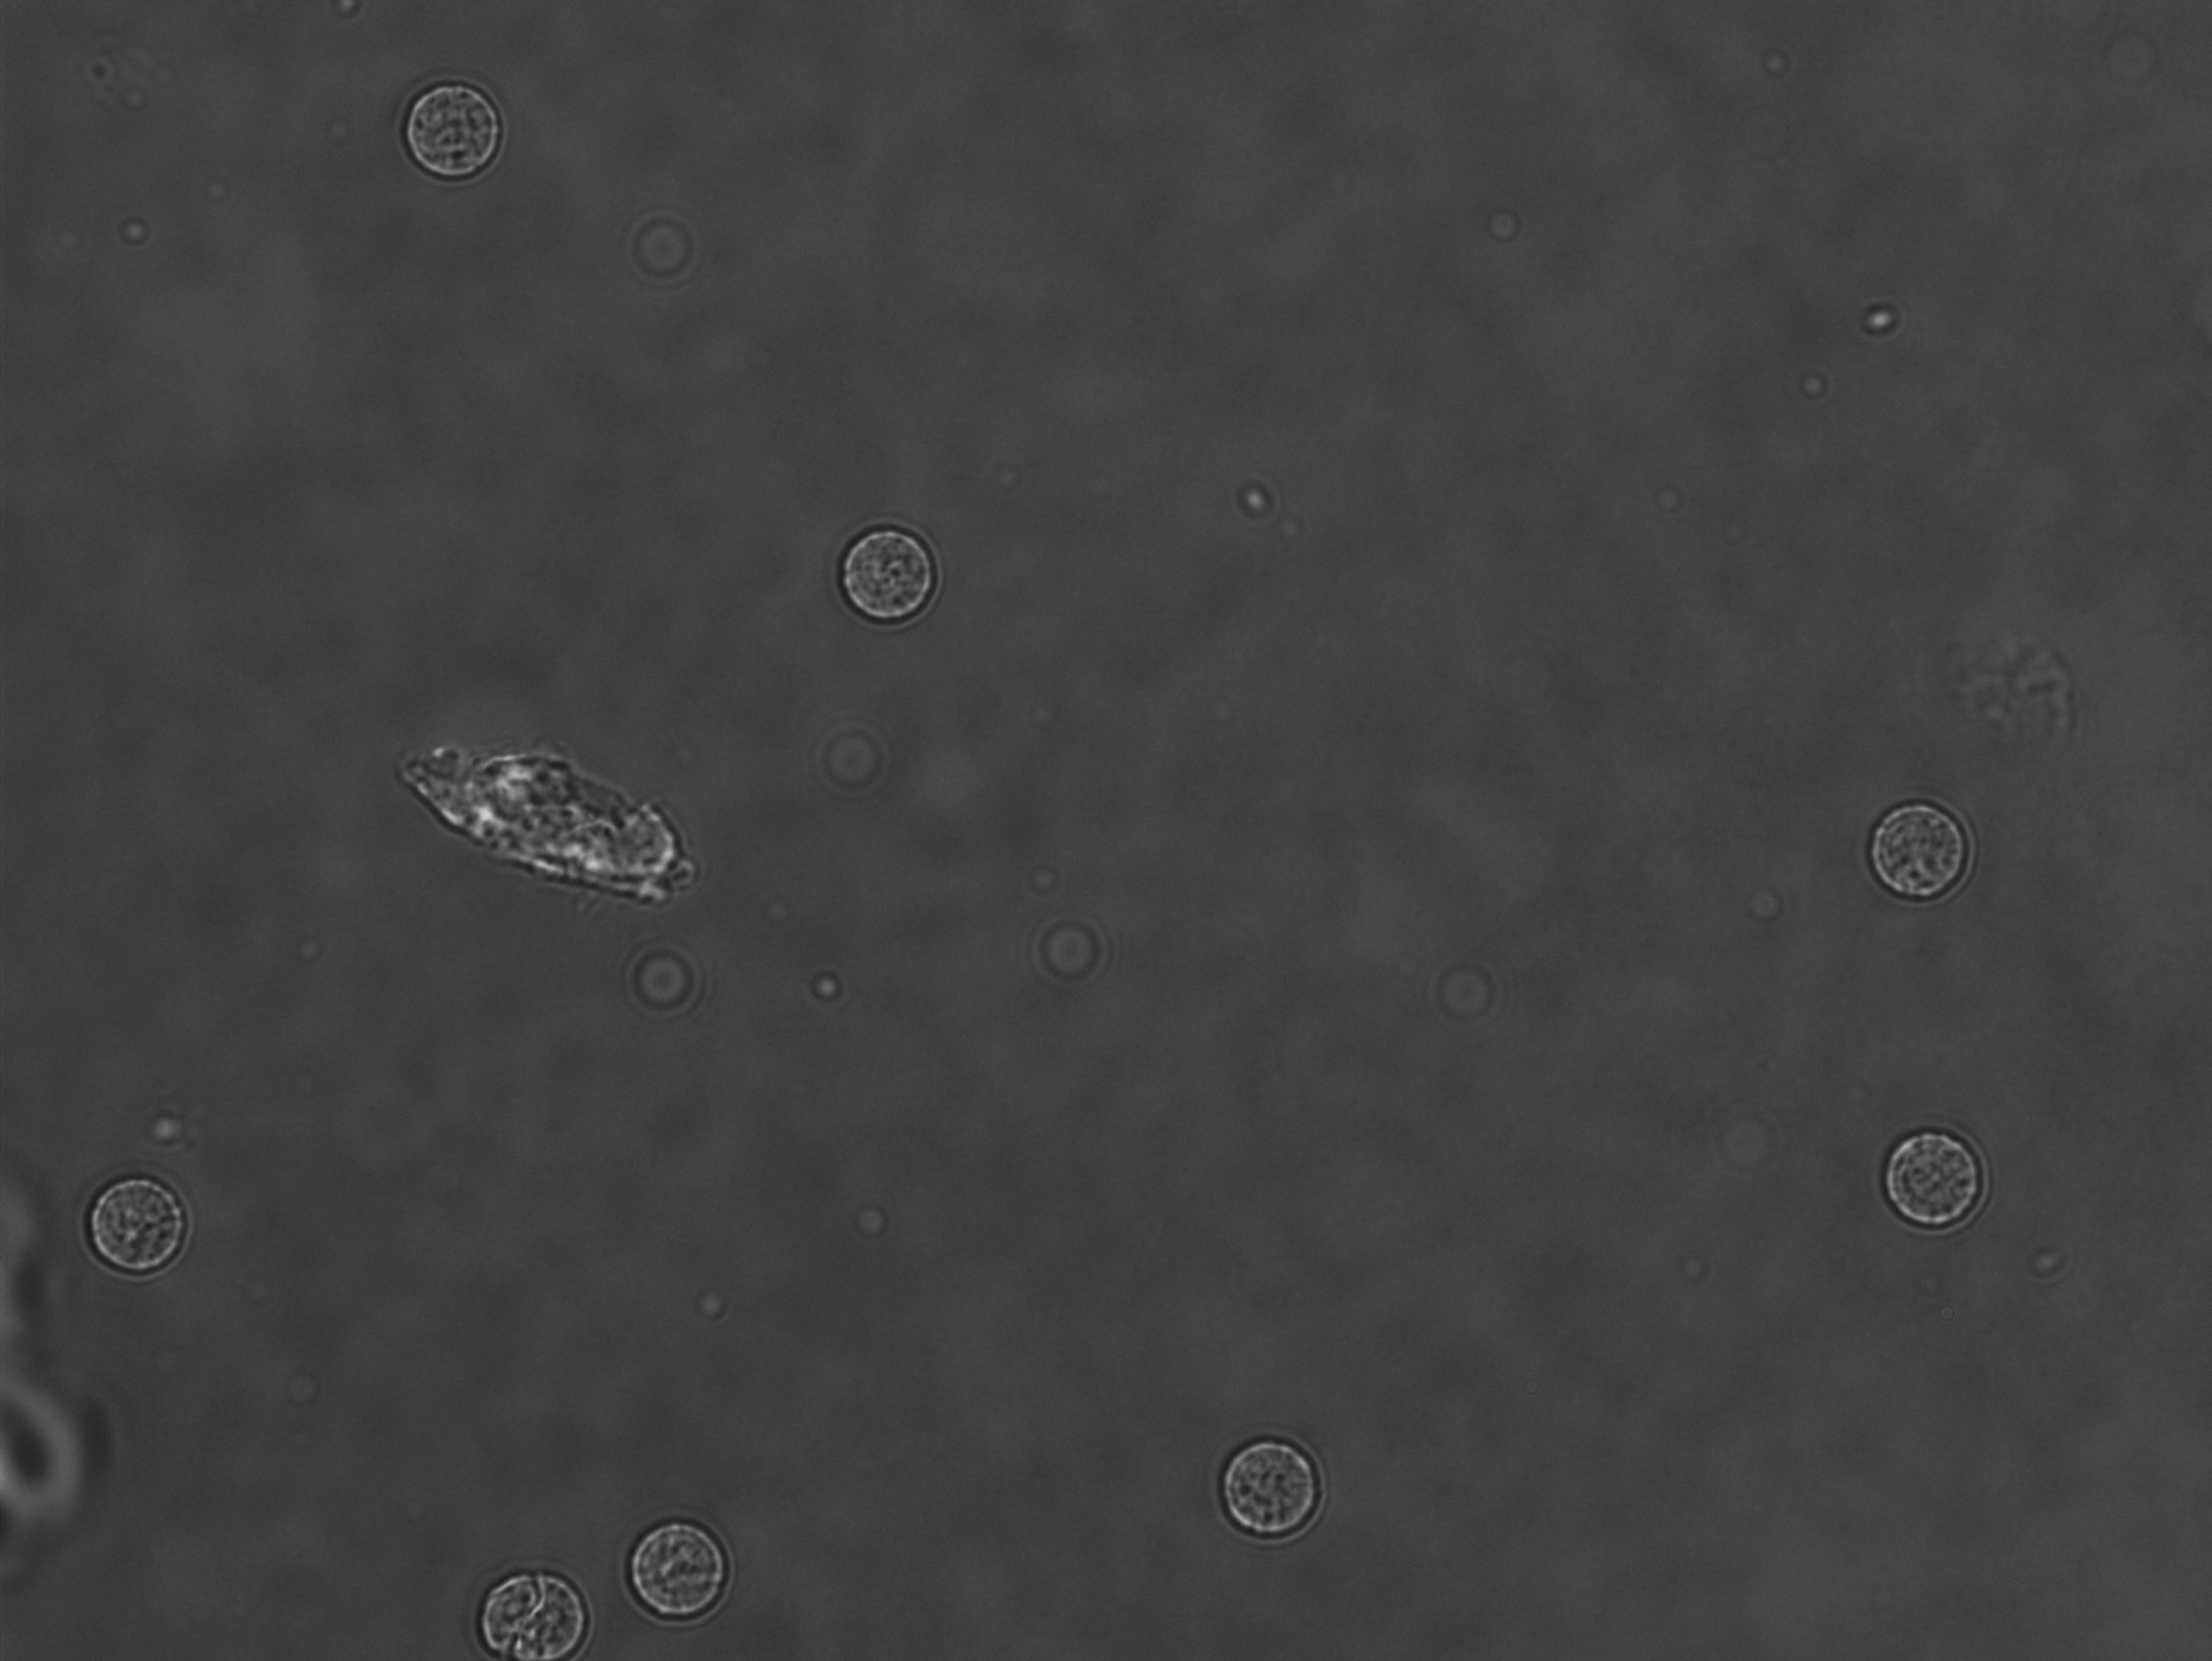depth:0: (1840, 1085, 2027, 1254), (1190, 1415, 1380, 1548), (1847, 766, 1994, 926), (602, 1499, 769, 1626), (56, 1153, 202, 1288), (827, 508, 961, 640), (387, 77, 529, 202)
